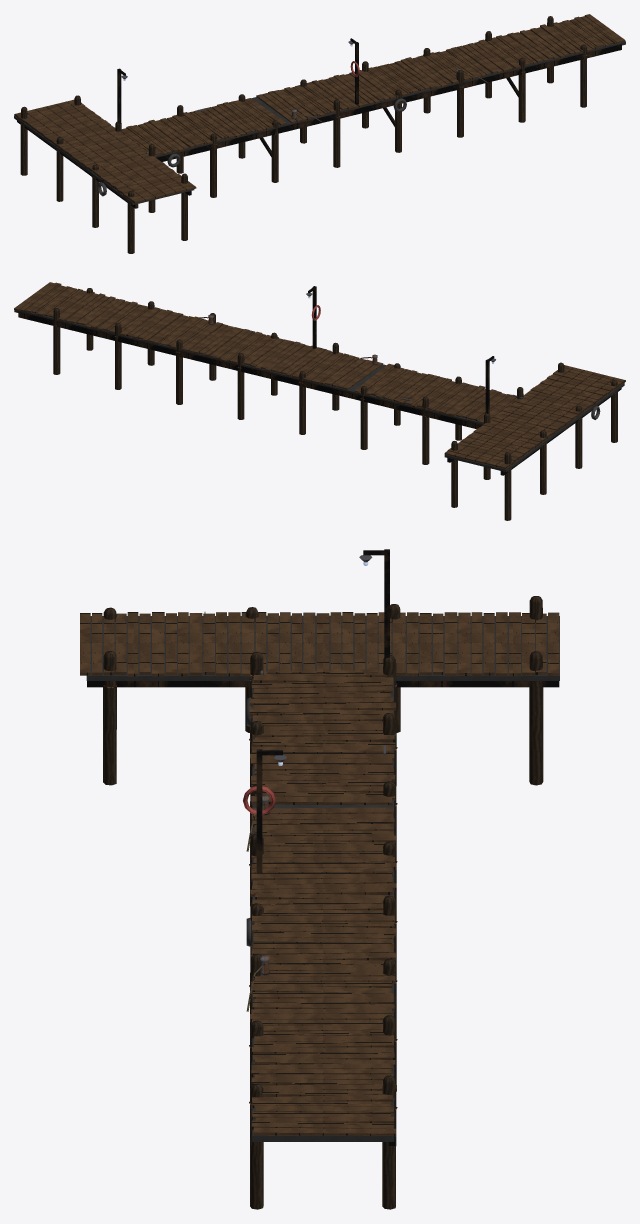
The model's file is dock.glb.
3 renders of one model, top to bottom at view 1: azimuth 30°, elevation 25°; view 2: azimuth 150°, elevation 25°; view 3: azimuth 270°, elevation 25°, orthographic. The views are drawn at different scales.
Visible parts, largest first — view 1: detail, deck-col; view 2: detail, deck-col; view 3: detail, deck-col.
Boxes of the visible parts, x1,y1,x2,y2 form: detail: (14,14,625,253); deck-col: (14,32,625,204); detail: (14,282,625,520); deck-col: (14,299,624,471); detail: (80,549,559,1209); deck-col: (86,615,559,1141).
Size of what is drawn, in the model's own units: 26.13 by 5.5 by 10.14.
10 materials, 10 textured.
